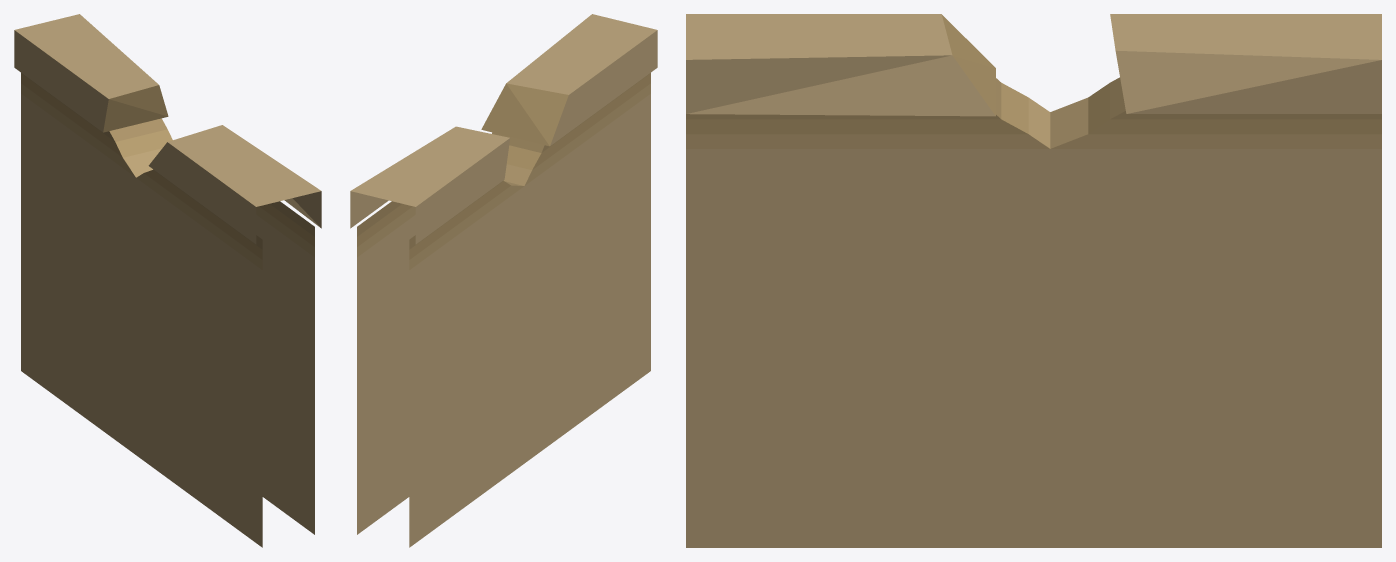
The model's file is obj_wall_14_0.obj.
3 renders of one model, left to right at view 1: azimuth 30°, elevation 25°; view 2: azimuth 150°, elevation 25°; view 3: azimuth 270°, elevation 25°, orthographic. The views are drawn at different scales.
Bounding box in the file's own units: 0.1641 × 0.7812 × 1.
